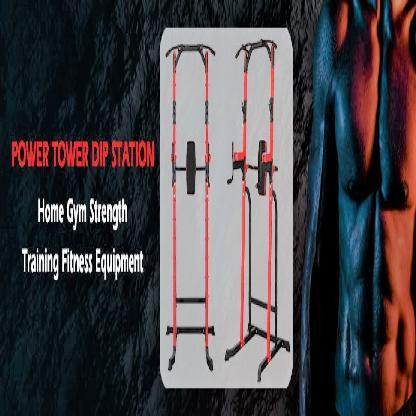chinning dipping: (225, 39, 290, 383), (165, 41, 216, 372)
